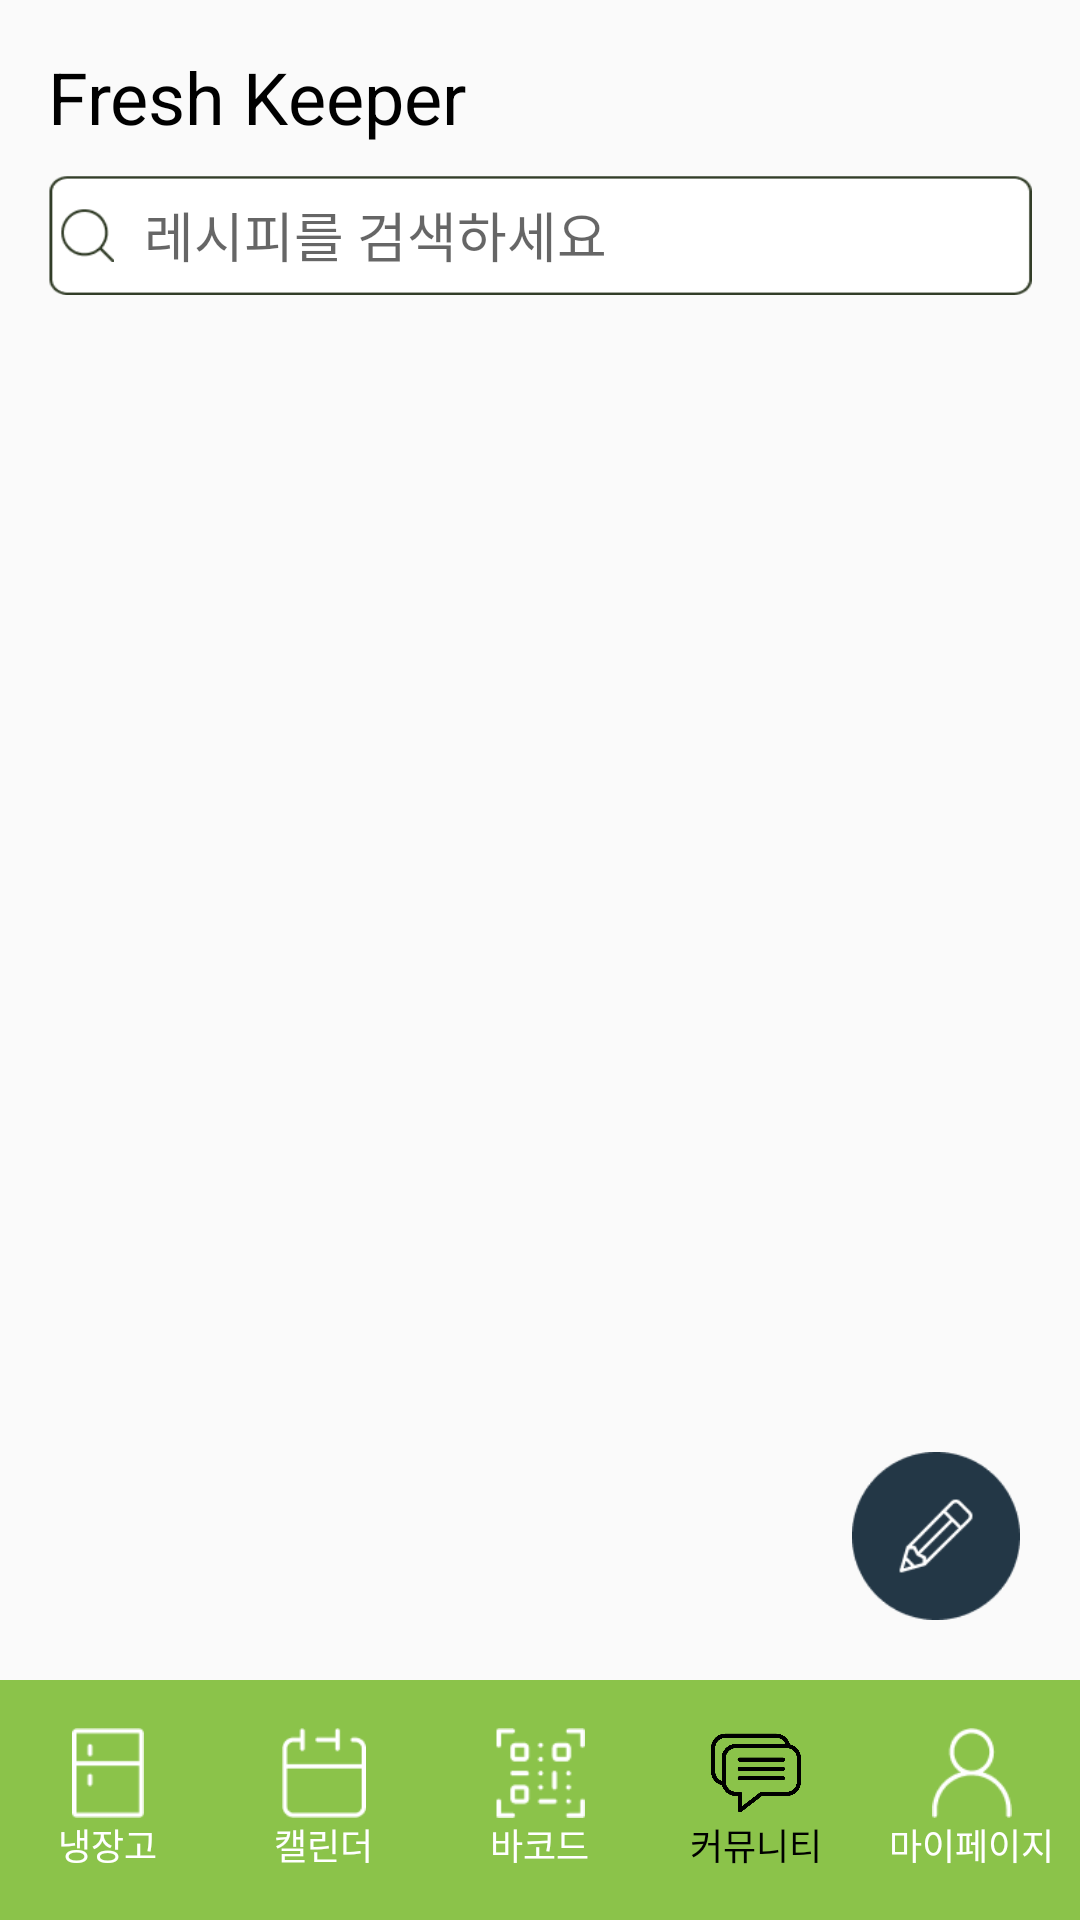

Locate icon controls on the screen. Image size 1080*1920, boxes as [x1,y1,x2,y2].
검색 아이콘: [61,209,114,262]
글쓰기 버튼: [852,1452,1020,1620]
